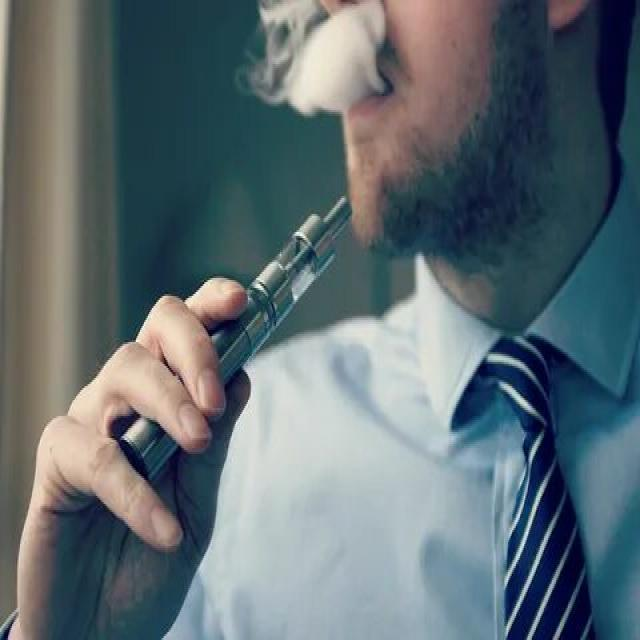cigarette: (124, 190, 353, 490)
